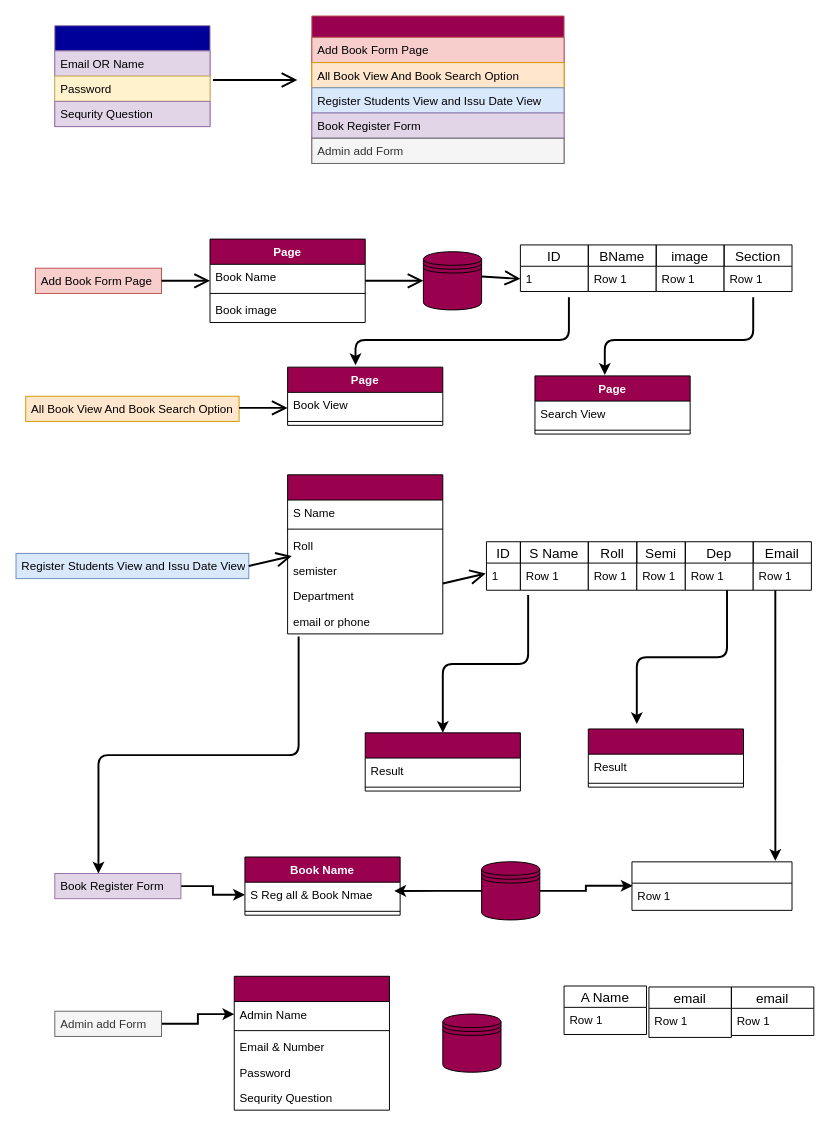
This 829x1126 diagram has some shape labels left out. Each missing label, with the box of its shape:
Admin Login Form: (54, 25, 210, 127)
Admin Pannel View: (311, 15, 564, 163)
Admin Reg Form: (233, 975, 389, 1110)
All Reg Student View: (587, 728, 744, 787)
Book Reg all: (631, 861, 792, 910)
Search Students: (364, 732, 520, 791)
Students Register Form: (287, 474, 443, 634)
